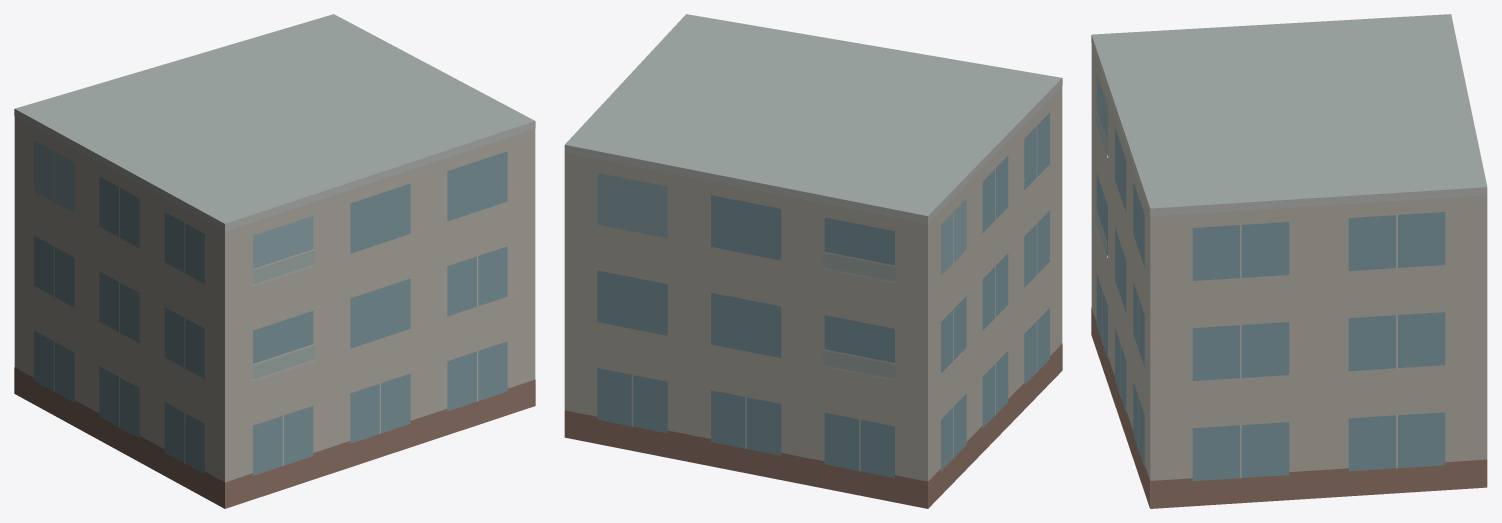
File: survey-upis-32535513.glb
3 views of the same model, side by side, from view 1: azimuth 30°, elevation 25°; view 2: azimuth 150°, elevation 25°; view 3: azimuth 270°, elevation 25° (orthographic). The views are drawn at different scales.
Parts seen in each view (by area): view 1: survey-upis-32535513.tmp; view 2: survey-upis-32535513.tmp; view 3: survey-upis-32535513.tmp.
Boxes of the visible parts, <box> form: survey-upis-32535513.tmp: <box>14,14,535,508</box>; survey-upis-32535513.tmp: <box>564,14,1062,508</box>; survey-upis-32535513.tmp: <box>1091,14,1487,508</box>.
Bounding box in the file's own units: 12.72 × 9.15 × 10.94.
